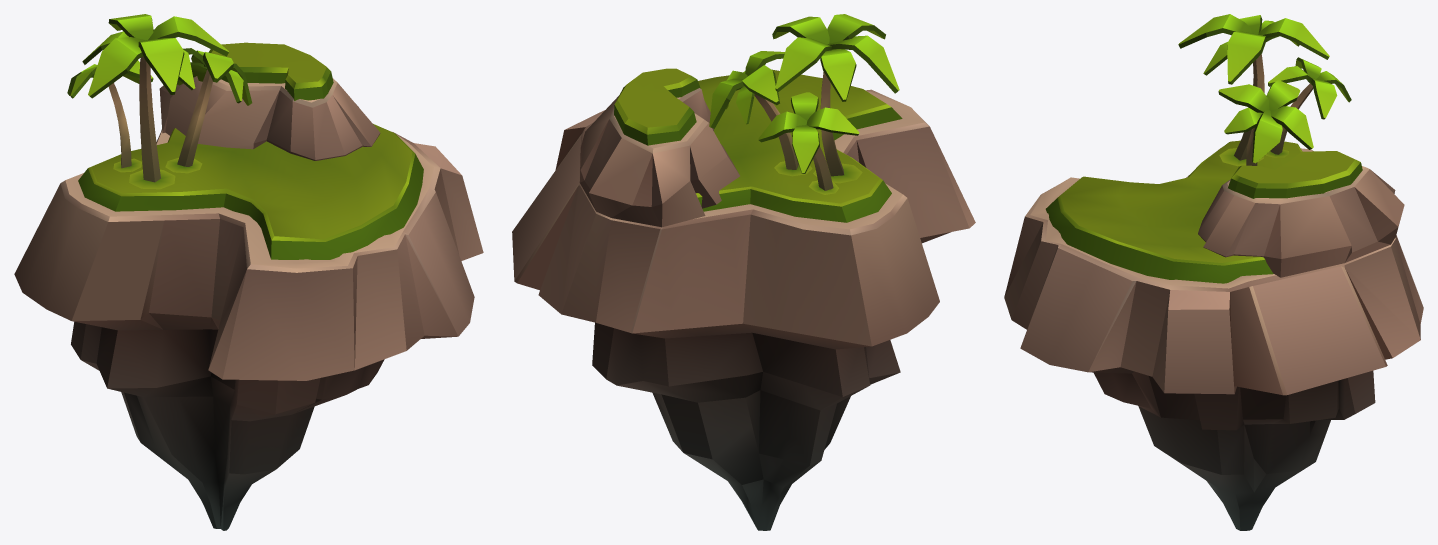
Rendered from Pirate_sml_Island_1.fbx.
3 views of the same model, side by side, from view 1: azimuth 30°, elevation 25°; view 2: azimuth 150°, elevation 25°; view 3: azimuth 270°, elevation 25° (orthographic). The views are drawn at different scales.
Visible parts, largest first — view 1: Plane.062, Plane.060, Plane.061, Plane.063, Plane.059, Plane.064, Plane.065; view 2: Plane.062, Plane.060, Plane.061, Plane.063, Plane.059, Plane.065, Plane.064; view 3: Plane.062, Plane.060, Plane.061, Plane.063, Plane.059, Plane.064, Plane.065.
Part boxes in pixels (x1,y1,x2,y2): Plane.062: (14,129,483,530); Plane.060: (78,124,423,259); Plane.061: (159,76,380,160); Plane.063: (82,14,228,189); Plane.059: (208,42,333,100); Plane.064: (165,48,252,173); Plane.065: (67,60,153,172); Plane.062: (512,89,975,530); Plane.060: (696,69,902,222); Plane.061: (579,88,739,227); Plane.063: (772,14,899,183); Plane.059: (614,68,700,145); Plane.065: (758,92,859,194); Plane.064: (709,51,812,176); Plane.062: (1004,148,1423,530); Plane.060: (1045,140,1302,283); Plane.061: (1198,166,1404,277); Plane.063: (1178,14,1329,166); Plane.059: (1228,151,1362,198); Plane.064: (1218,80,1313,165); Plane.065: (1265,57,1351,157).
Size of the model in its own units: 37.38 by 46.16 by 37.
